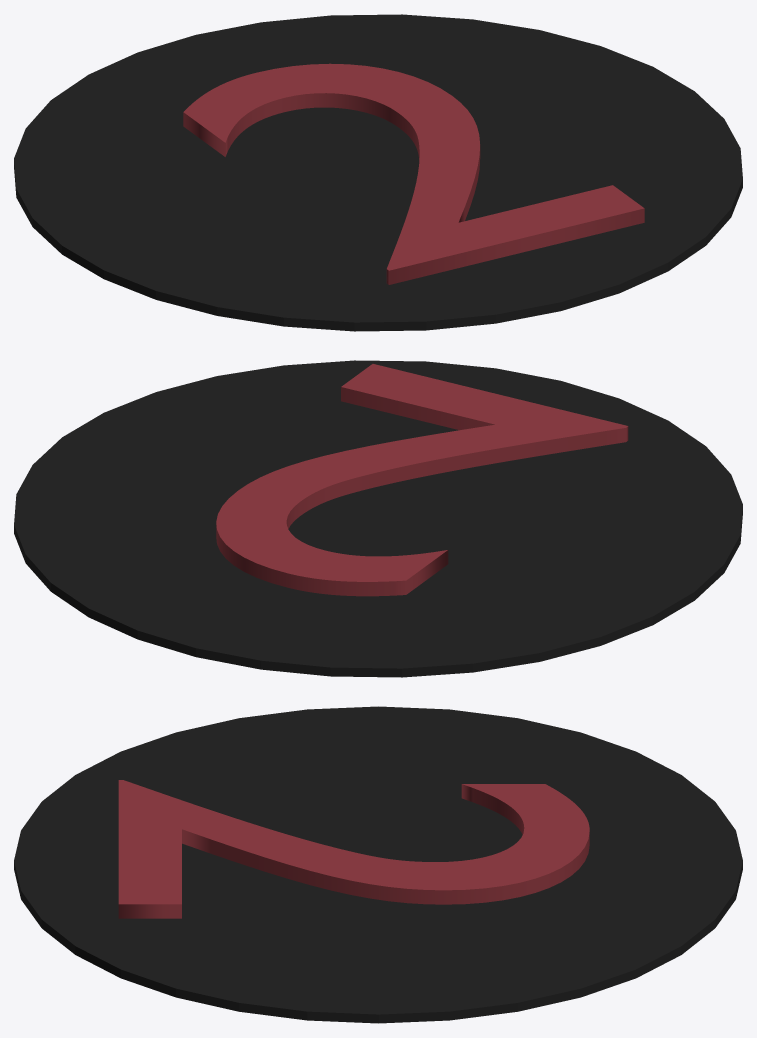
Rendered from two-cirlce.fbx.
3 views of the same model, one above another, from view 1: azimuth 30°, elevation 25°; view 2: azimuth 150°, elevation 25°; view 3: azimuth 270°, elevation 25° (orthographic).
Visible parts, largest first — view 1: Cylinder, Text; view 2: Cylinder, Text; view 3: Cylinder, Text.
Boxes of the visible parts, x1,y1,x2,y2 form: Cylinder: [14, 14, 742, 331]; Text: [183, 63, 644, 284]; Cylinder: [14, 360, 742, 677]; Text: [216, 364, 628, 596]; Cylinder: [14, 706, 742, 1023]; Text: [118, 780, 589, 918].
Bounding box in the file's own units: 141 × 6.67 × 141.
